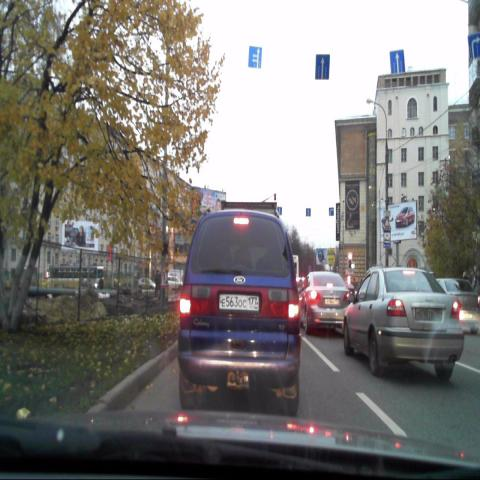1_5: (383, 218, 391, 231)
5_15_2: (314, 54, 330, 81), (390, 50, 405, 77), (249, 45, 262, 68)
7_2: (384, 231, 390, 248)
